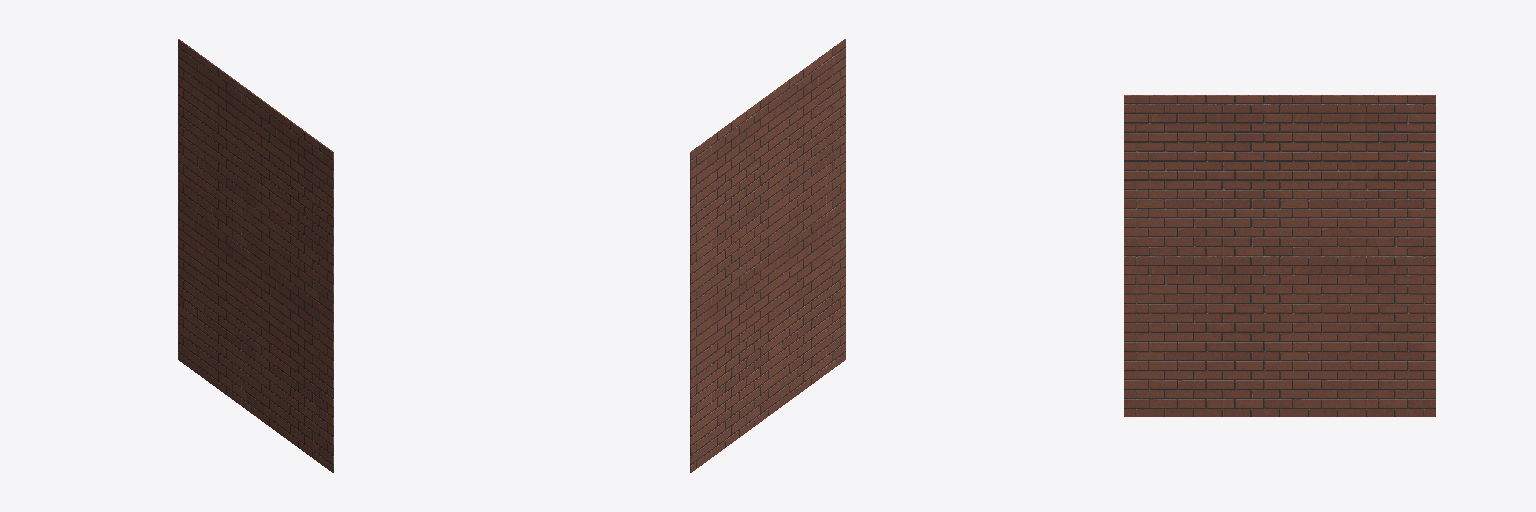
3 renders of one model, left to right at view 1: azimuth 30°, elevation 25°; view 2: azimuth 150°, elevation 25°; view 3: azimuth 270°, elevation 25°, orthographic.
Parts seen in each view (by area): view 1: Box001; view 2: Box001; view 3: Box001.
Part boxes in pixels (bbox=[...]): Box001: bbox=[178, 39, 333, 472]; Box001: bbox=[690, 39, 845, 472]; Box001: bbox=[1124, 95, 1435, 416].
Size of the model in its own units: 10 by 2500 by 2200.
1 materials, 1 textured.